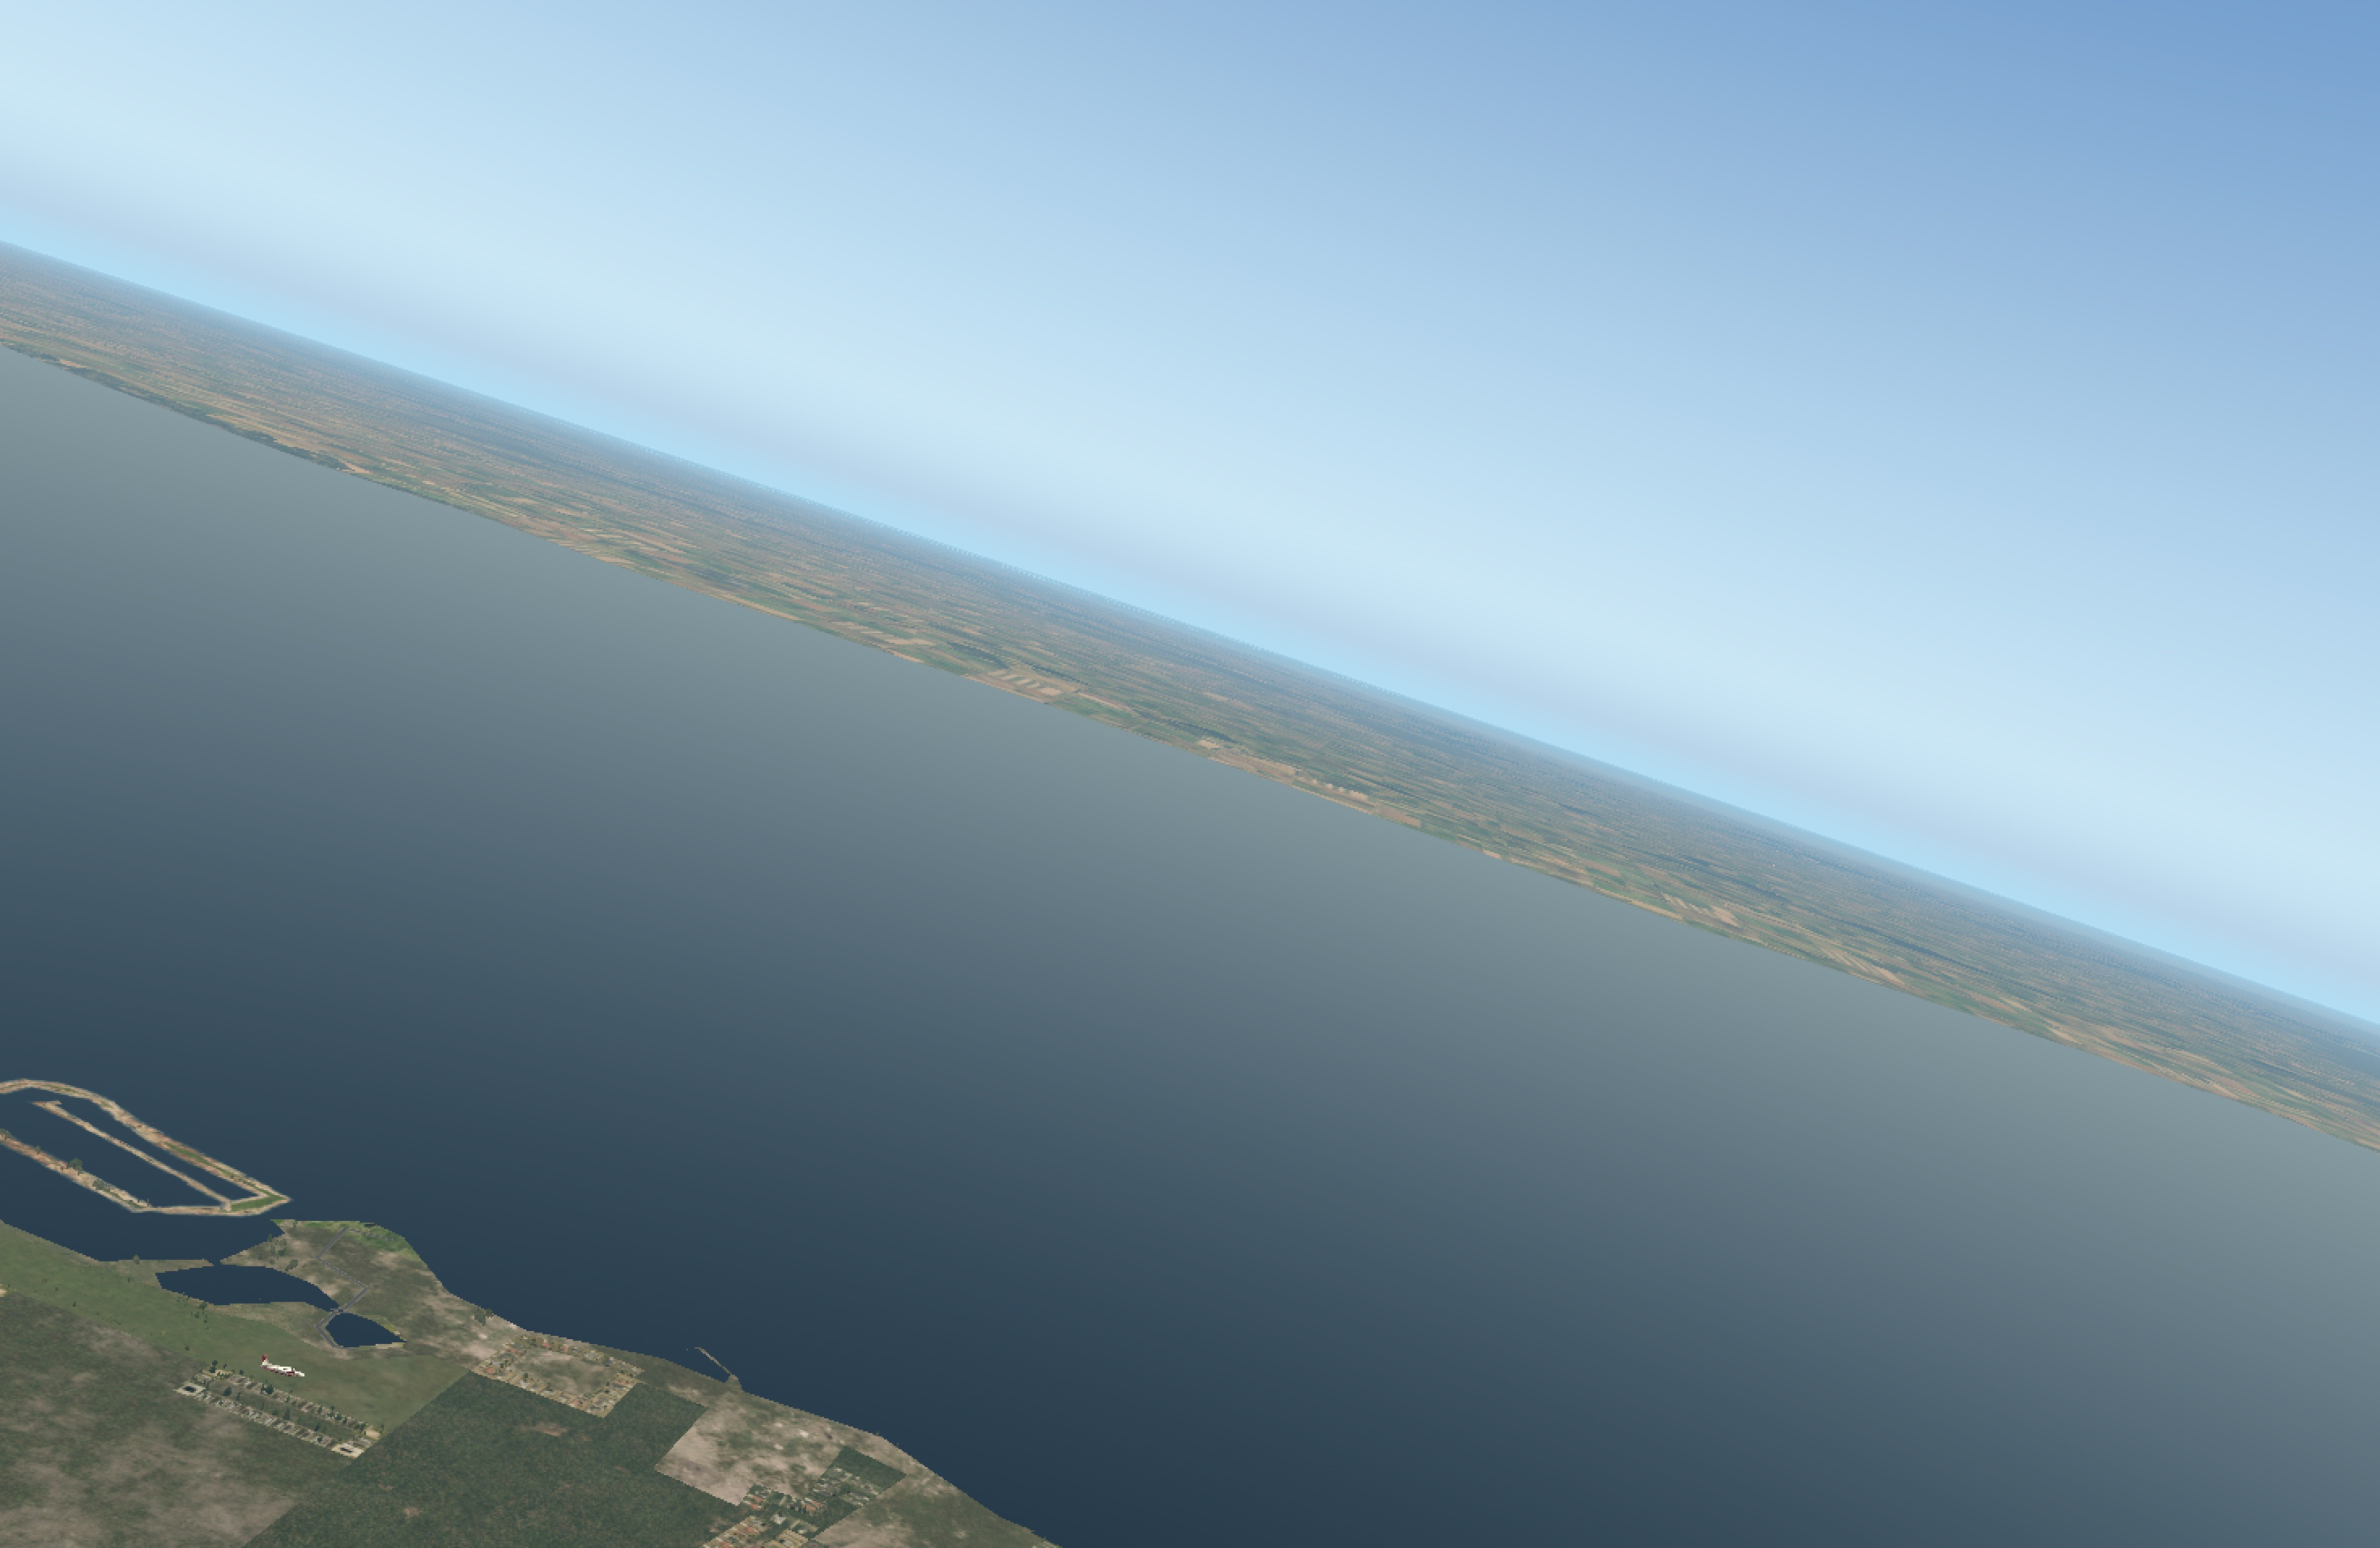aircraft: (258, 1364, 319, 1387)
